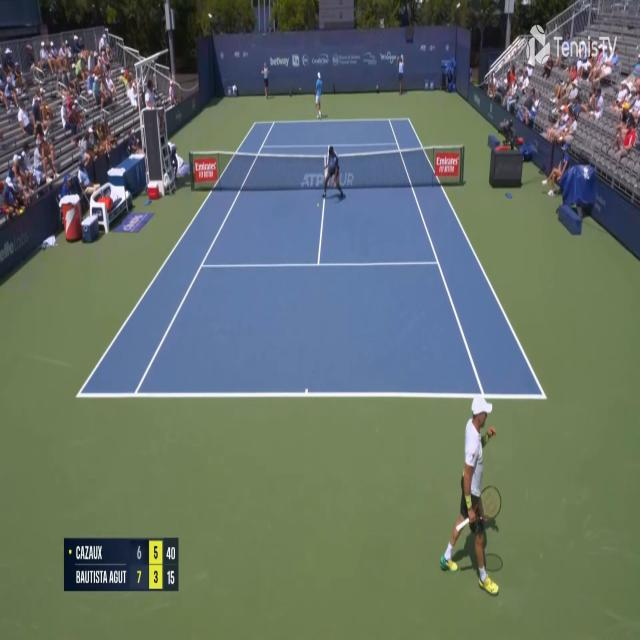tennis-player: (437, 397, 505, 598), (314, 70, 324, 120)
